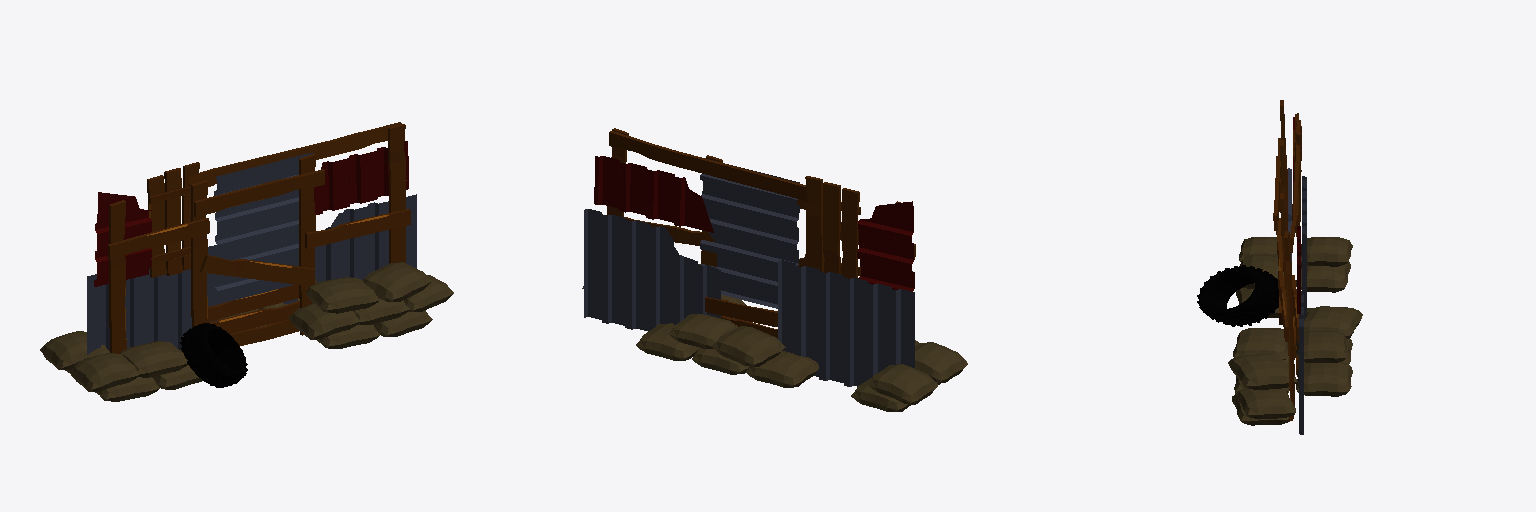
The model's file is barier.obj.
3 views of the same model, side by side, from view 1: azimuth 30°, elevation 25°; view 2: azimuth 150°, elevation 25°; view 3: azimuth 270°, elevation 25° (orthographic).
Parts seen in each view (by area): view 1: Barrier_Trash; view 2: Barrier_Trash; view 3: Barrier_Trash.
Boxes of the visible parts, x1,y1,x2,y2 form: Barrier_Trash: [40, 122, 453, 401]; Barrier_Trash: [582, 128, 967, 411]; Barrier_Trash: [1197, 100, 1362, 434].
Size of the model in its own units: 4.9 by 2.51 by 1.92.